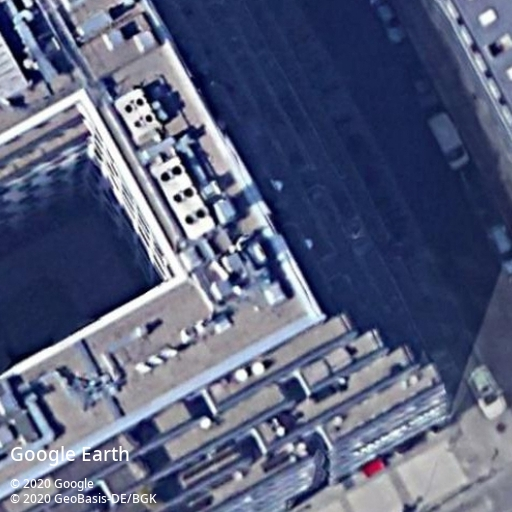Chiller: (151, 156, 216, 240), (113, 88, 160, 139)
